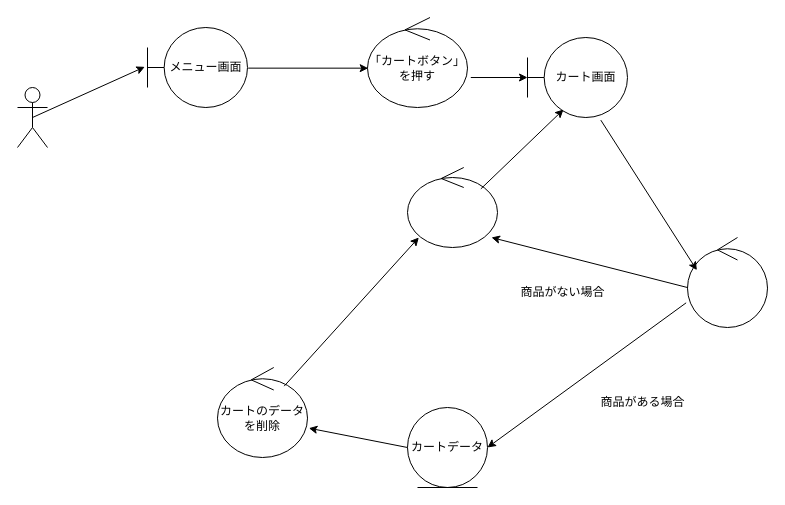
This 785x505 diagram has some shape labels left out. The shapes that lost their labels are listed below. From the top down, each one's centre as x and y in pixels, then its label:
pixel 32 117: 顧客
pixel 452 207: データなし
pixel 727 282: 「削除ボタン」を押す
